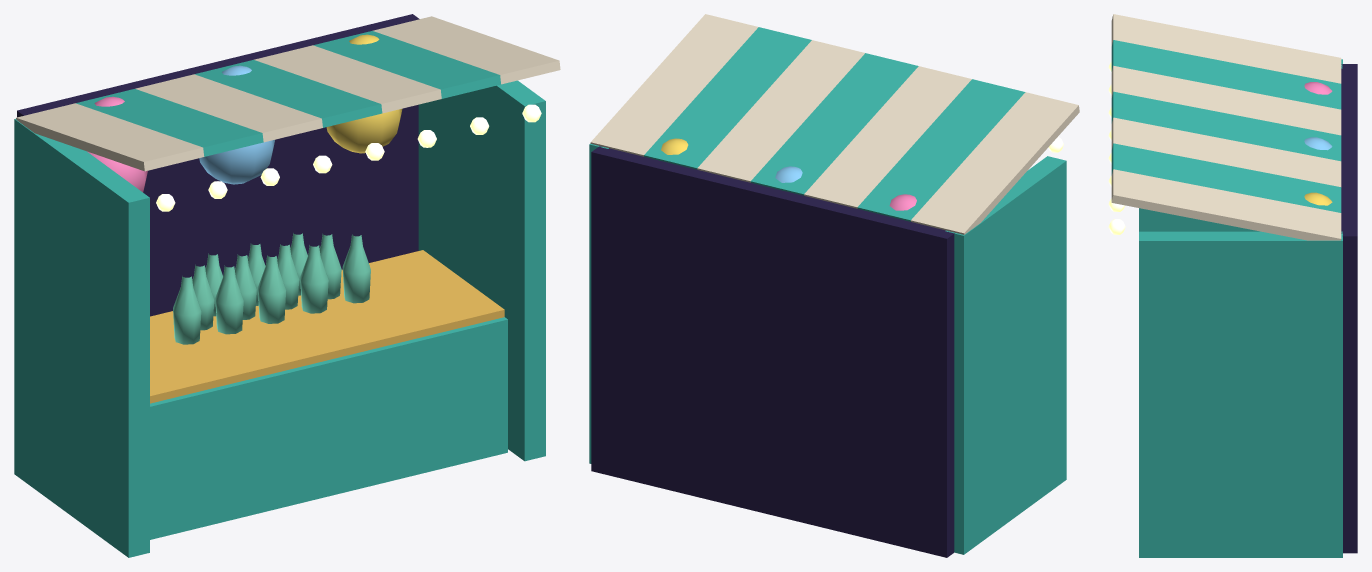
Rendered from booth.glb.
The picture shows the model from 3 angles, left to right: view 1: azimuth 30°, elevation 25°; view 2: azimuth 150°, elevation 25°; view 3: azimuth 270°, elevation 25°; orthographic projection. The views are drawn at different scales.
Visible parts, largest first — view 1: booth; view 2: booth; view 3: booth.
Boxes of the visible parts, x1=… form: booth: x1=14, y1=14, x2=560, y2=557; booth: x1=589, y1=14, x2=1079, y2=557; booth: x1=1108, y1=14, x2=1357, y2=557.
Bounding box in the file's own units: 2.95 × 2.75 × 1.71.
